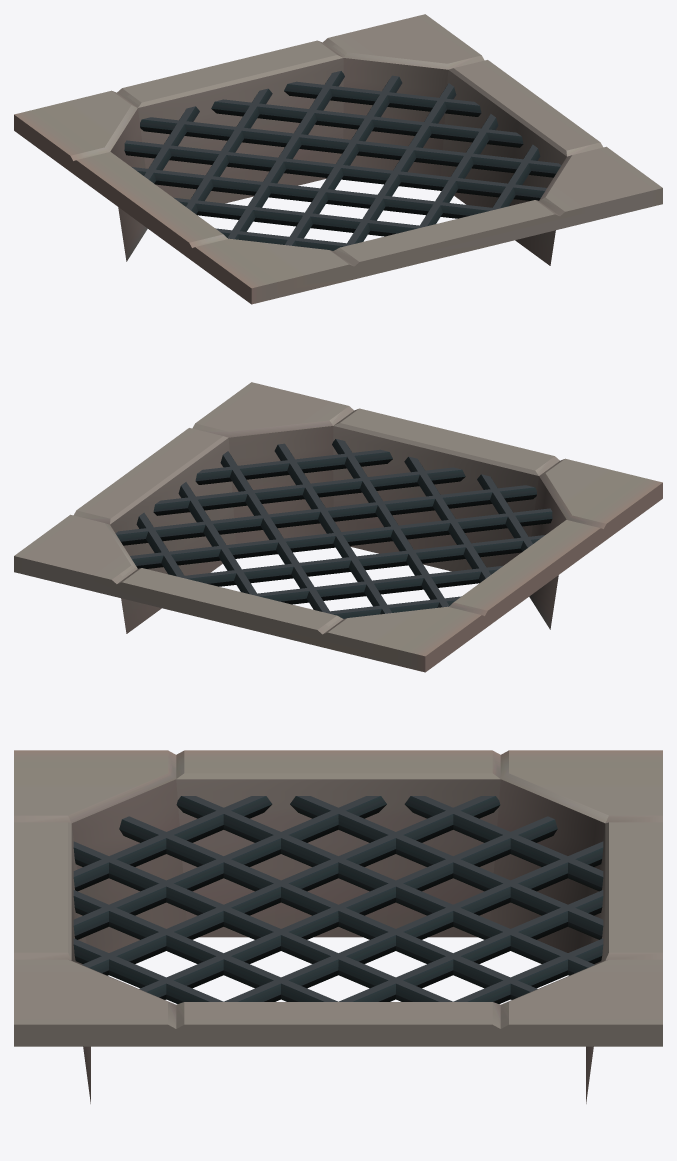
Rendered from floor_tile_big_grate_open.glb.
3 renders of one model, top to bottom at view 1: azimuth 30°, elevation 25°; view 2: azimuth 150°, elevation 25°; view 3: azimuth 270°, elevation 25°, orthographic. The views are drawn at different scales.
Visible parts, largest first — view 1: floor_tile_big_grate_open; view 2: floor_tile_big_grate_open; view 3: floor_tile_big_grate_open.
Boxes of the visible parts, <box> form: floor_tile_big_grate_open: <box>14,14,662,304</box>; floor_tile_big_grate_open: <box>14,382,662,672</box>; floor_tile_big_grate_open: <box>14,750,662,1103</box>.
Bounding box in the file's own units: 4 × 1.05 × 4.
1 material, 1 textured.
